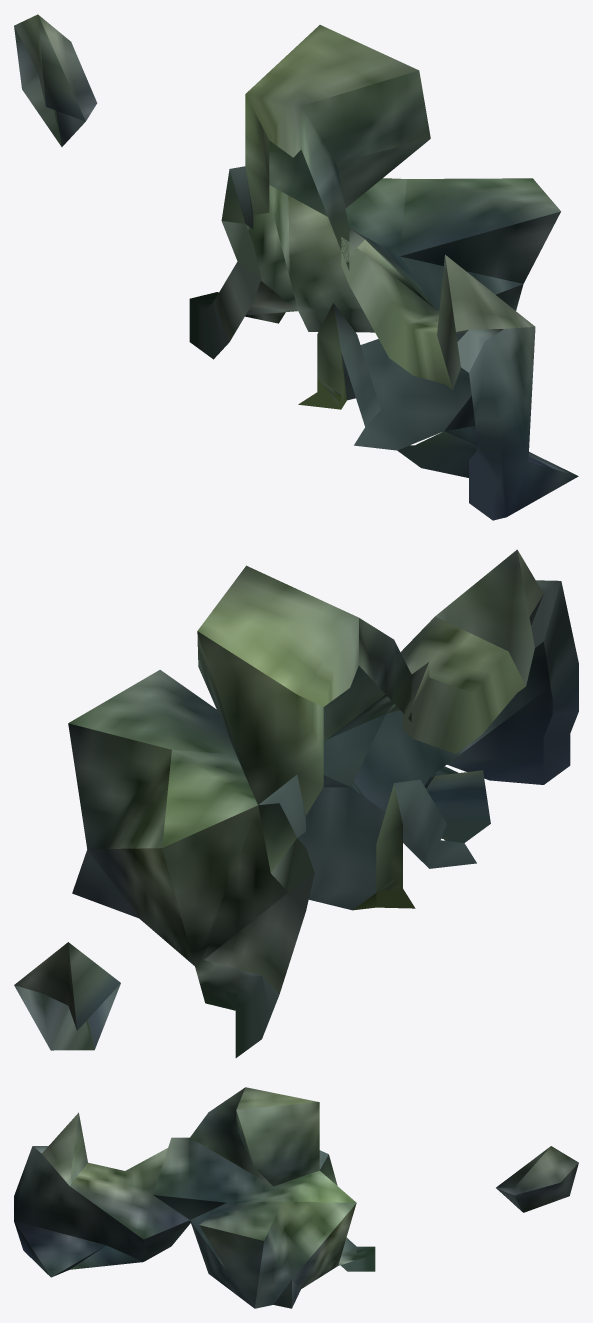
3 views of the same model, one above another, from view 1: azimuth 30°, elevation 25°; view 2: azimuth 150°, elevation 25°; view 3: azimuth 270°, elevation 25° (orthographic). The views are drawn at different scales.
Visible parts, largest first — view 1: 30436272704361505624_0; view 2: 30436272704361505624_0; view 3: 30436272704361505624_0.
Part boxes in pixels (<box>): 30436272704361505624_0: <box>14,14,578,520</box>; 30436272704361505624_0: <box>14,549,578,1057</box>; 30436272704361505624_0: <box>14,1087,578,1308</box>.
Bounding box in the file's own units: 3.07 × 3.54 × 9.41.
1 material, 1 textured.
